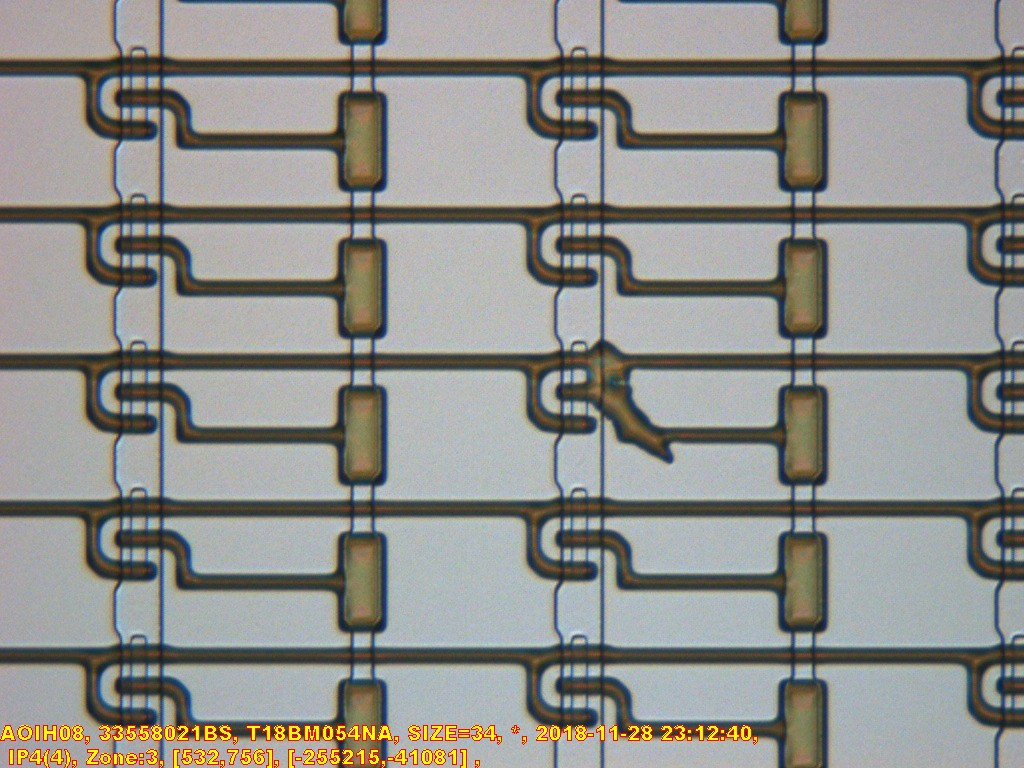PP02-C: (585, 340, 676, 465)
